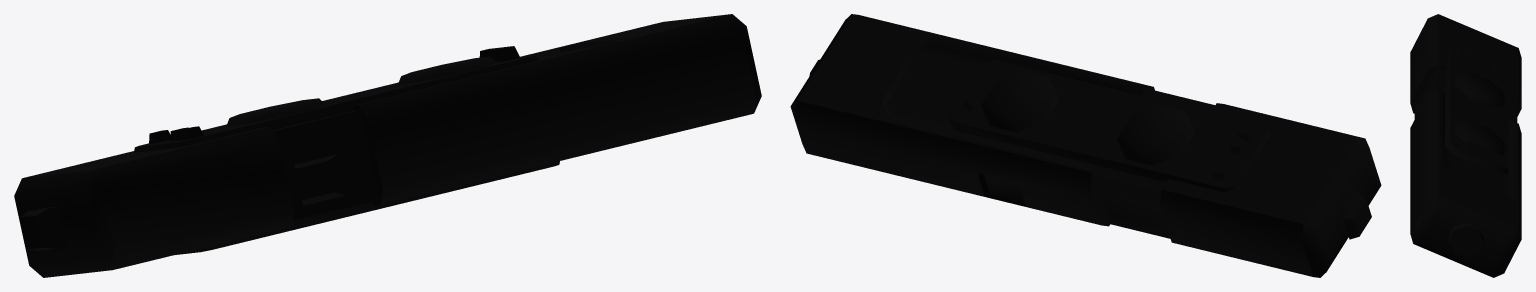
File: minox.ico.obj
The picture shows the model from 3 angles, left to right: view 1: azimuth 30°, elevation 25°; view 2: azimuth 150°, elevation 25°; view 3: azimuth 270°, elevation 25°; orthographic projection. The views are drawn at different scales.
Bounding box in the file's own units: 4.76 × 0.9365 × 1.14.
Materials: 1 (1 with a texture image).
